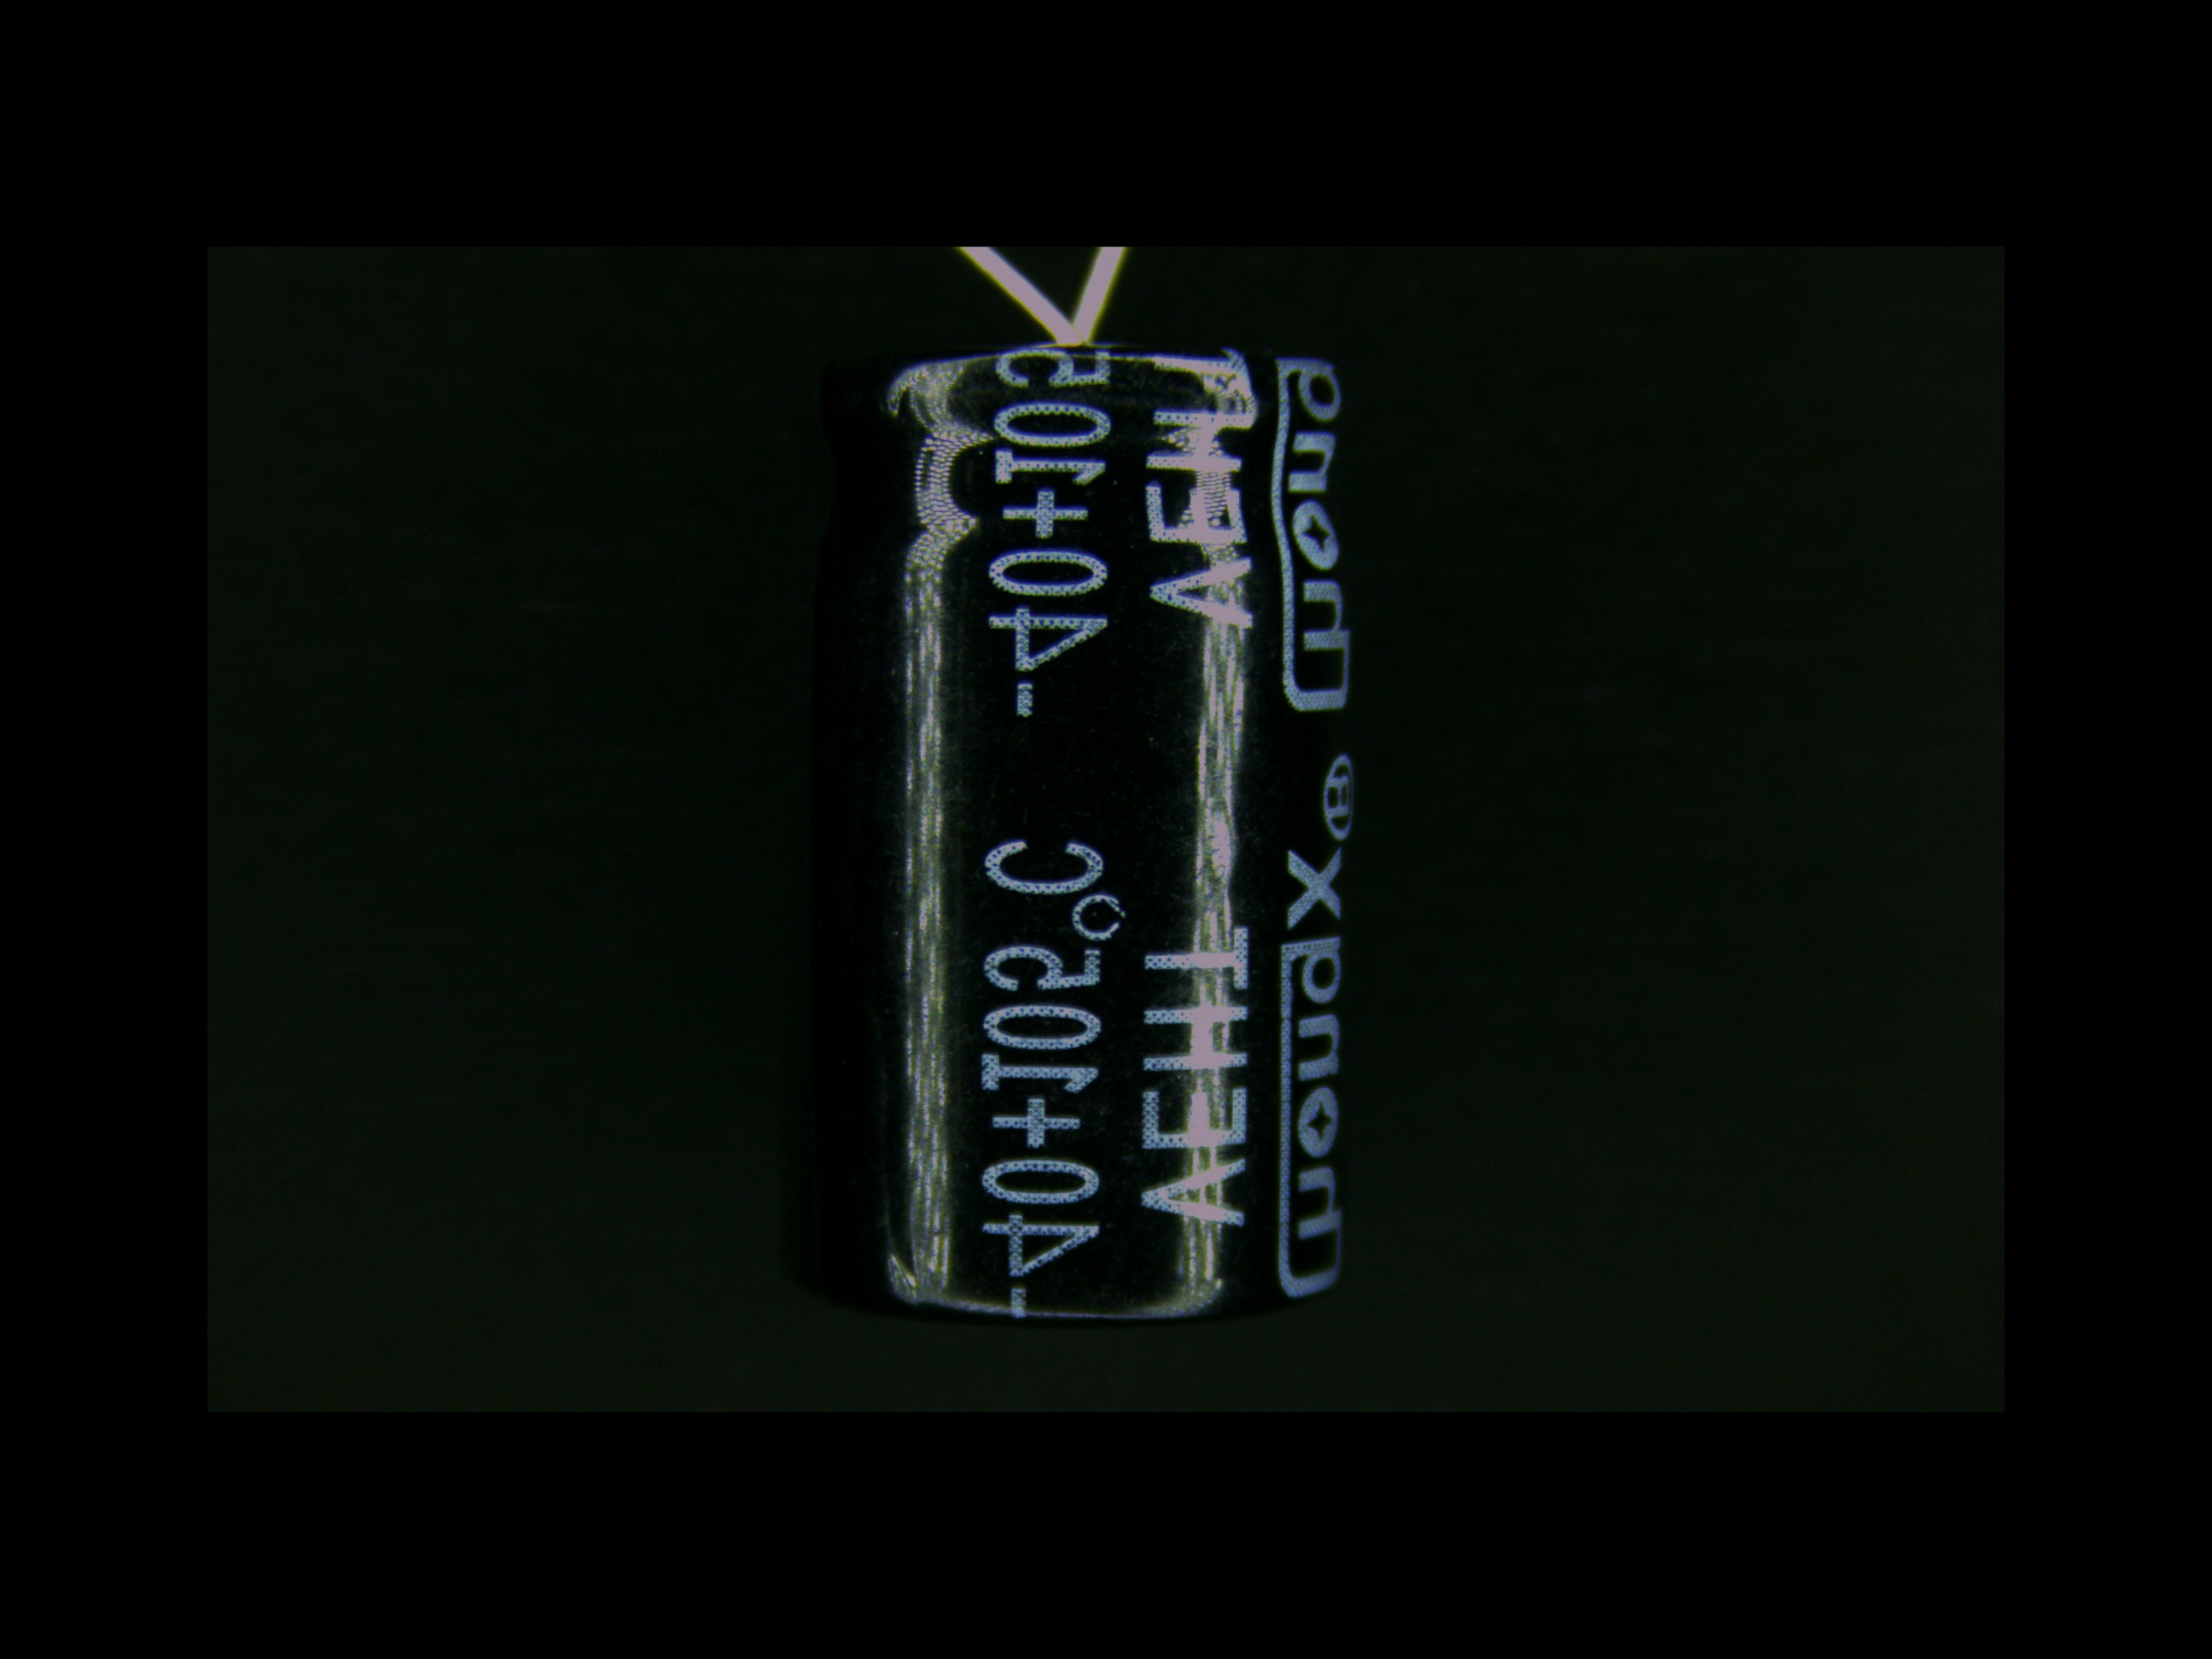c3: (786, 291, 1371, 1330)
